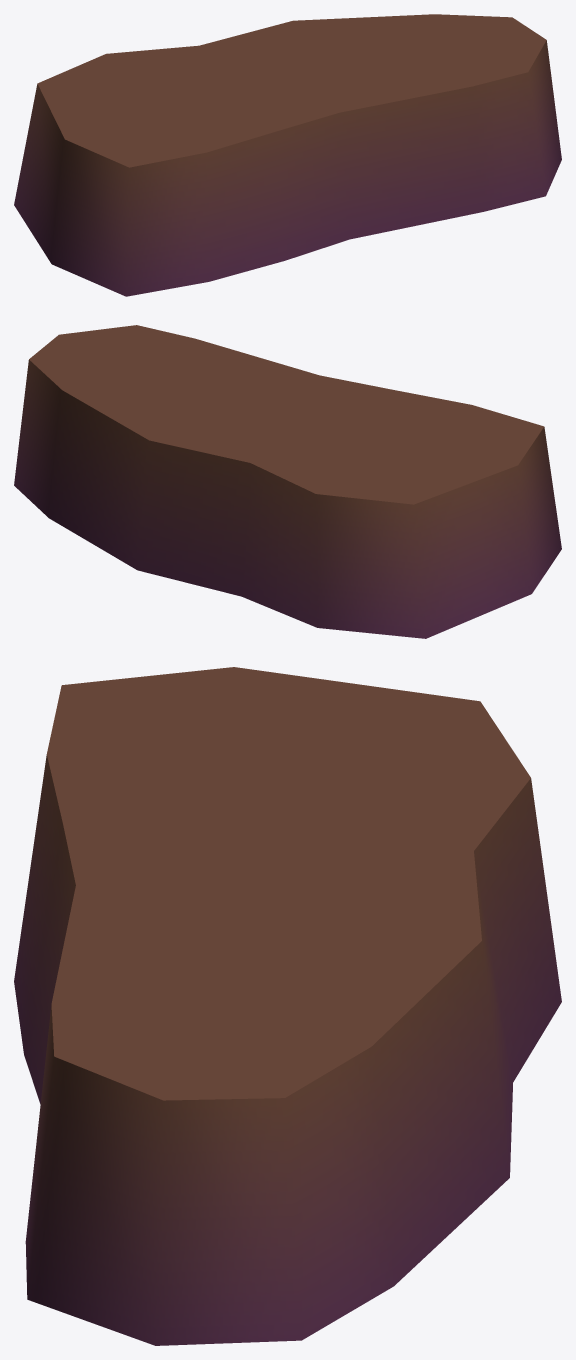
3 renders of one model, top to bottom at view 1: azimuth 30°, elevation 25°; view 2: azimuth 150°, elevation 25°; view 3: azimuth 270°, elevation 25°, orthographic. The views are drawn at different scales.
Visible parts, largest first — view 1: Cube.106; view 2: Cube.106; view 3: Cube.106.
Part boxes in pixels (x1,y1,x2,y2): Cube.106: [14, 14, 561, 296]; Cube.106: [14, 325, 561, 638]; Cube.106: [14, 667, 561, 1345].
Size of the model in its own units: 19.76 by 4.69 by 9.99.
